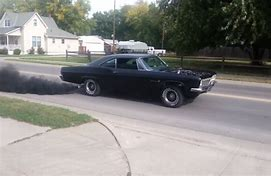smoke: (1, 66, 80, 95)
